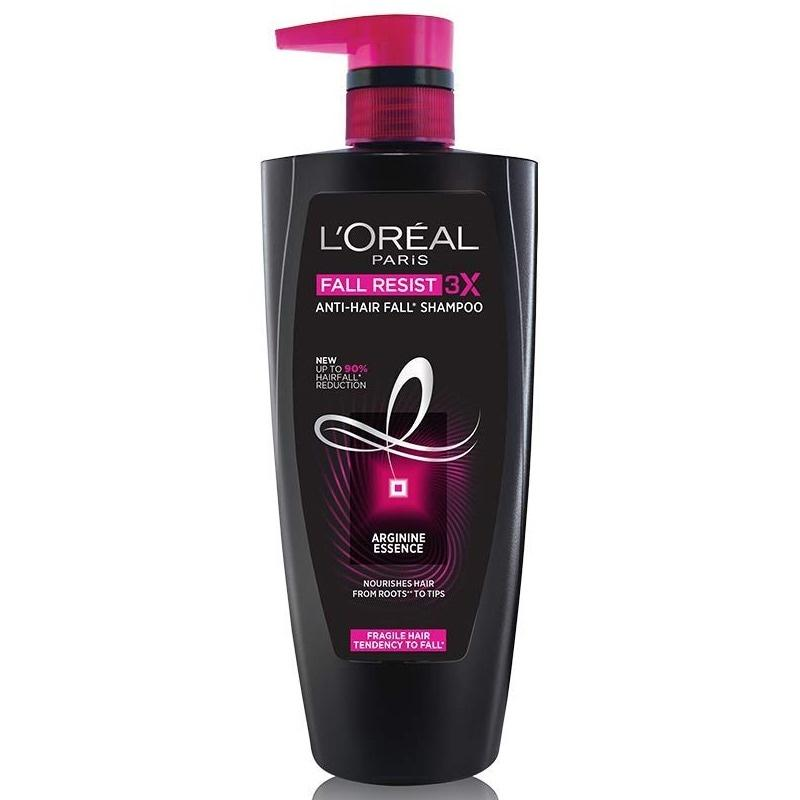Loreal: (262, 24, 539, 786)
